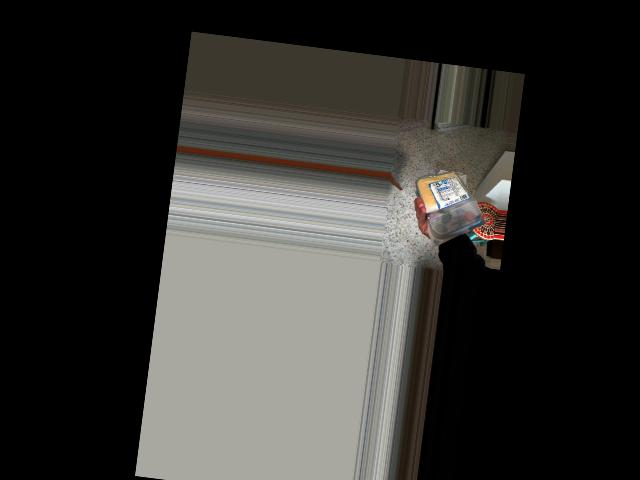cheese: (418, 163, 491, 240)
